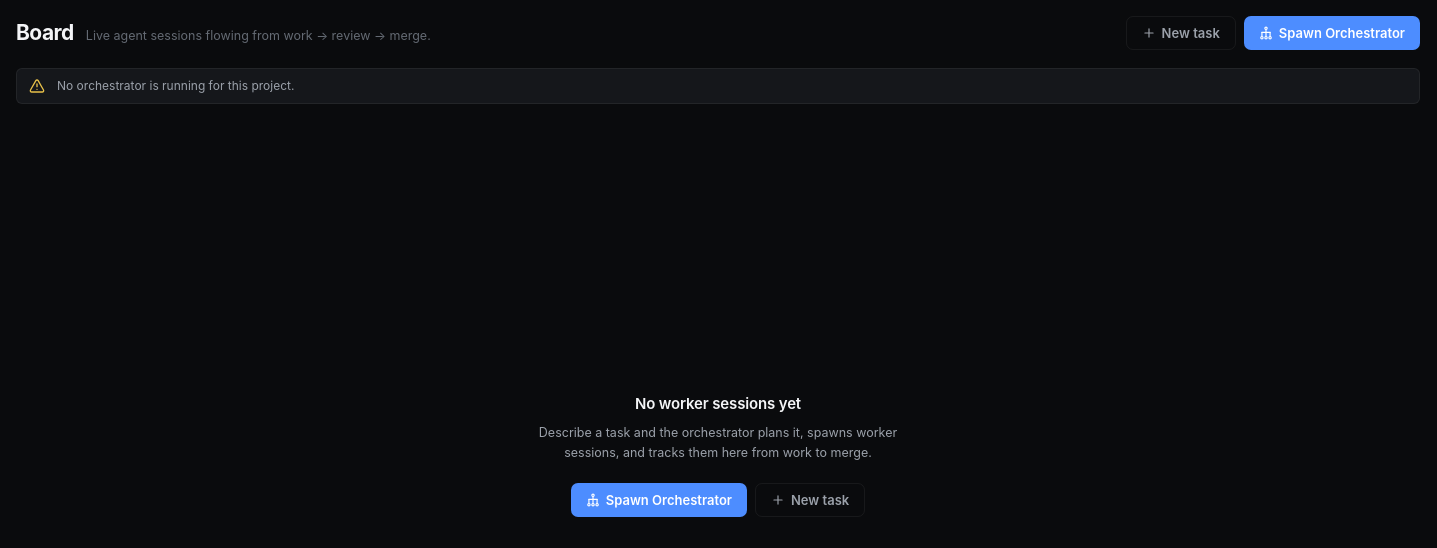
Test: project board with no sessions › surfaces the daemon error when spawning the orchestrator fails
This screenshot has width=1437, height=548.
Expected: the heading "No worker sessions yet" is shown, x1=635 y1=392 x2=801 y2=415
Click the button "Spawn Orchestrator" in the row of "Board" at (1332, 33), box x1=1244 y1=16 x2=1420 y2=50
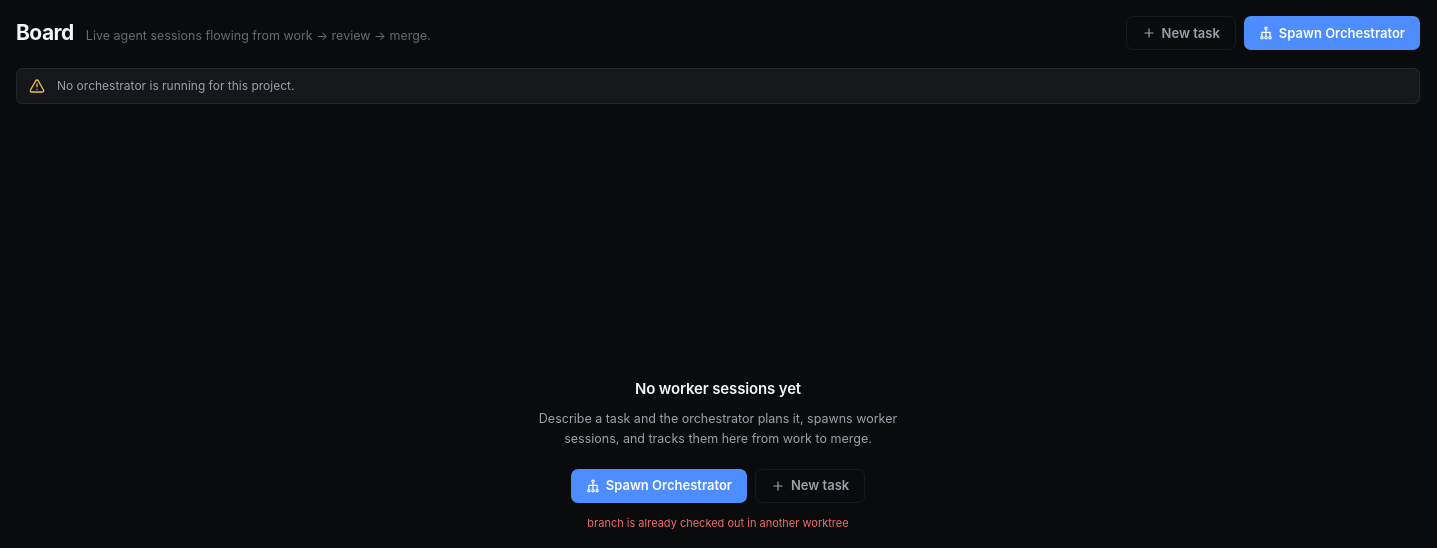
Expected: the text "branch is already checked out in another worktree" is shown, x1=587 y1=515 x2=849 y2=531
